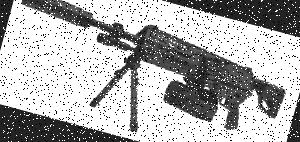rifle: (0, 0, 300, 140)
